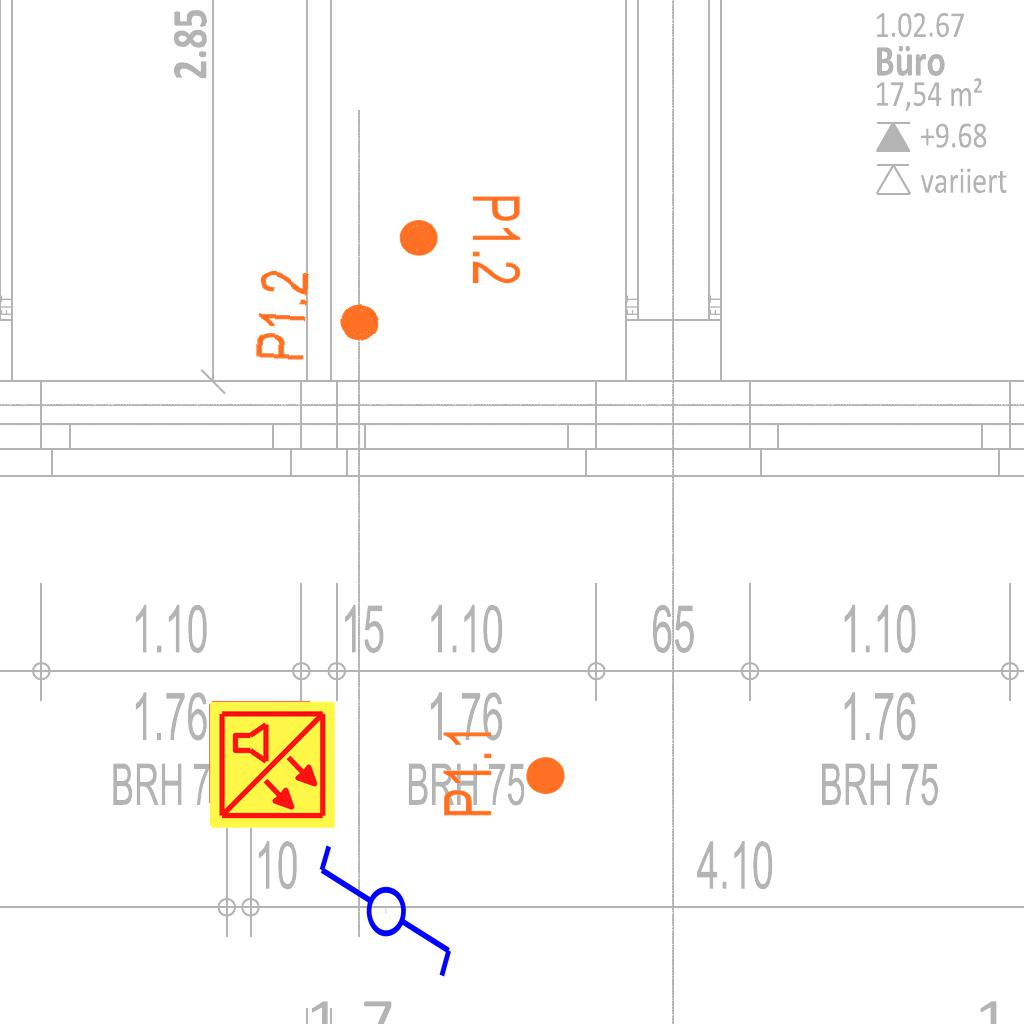Downlight_LED_Einbauleuchten_Flur: (251, 267, 386, 369), (440, 726, 568, 819), (396, 193, 524, 286)
OKW_Multisensormelder_(Kombination_optischer_Rauch-Kahlenmonoxid_Waerme-Melder): (206, 699, 338, 831)
Wechselschalter: (312, 841, 456, 998)
